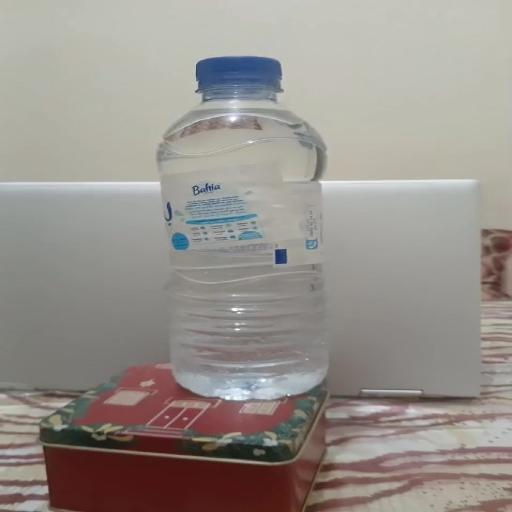bouteille conformite: (125, 49, 388, 399)
